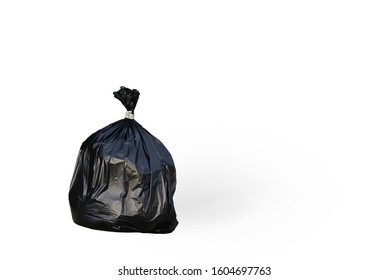plastic_bag: (64, 75, 186, 240)
